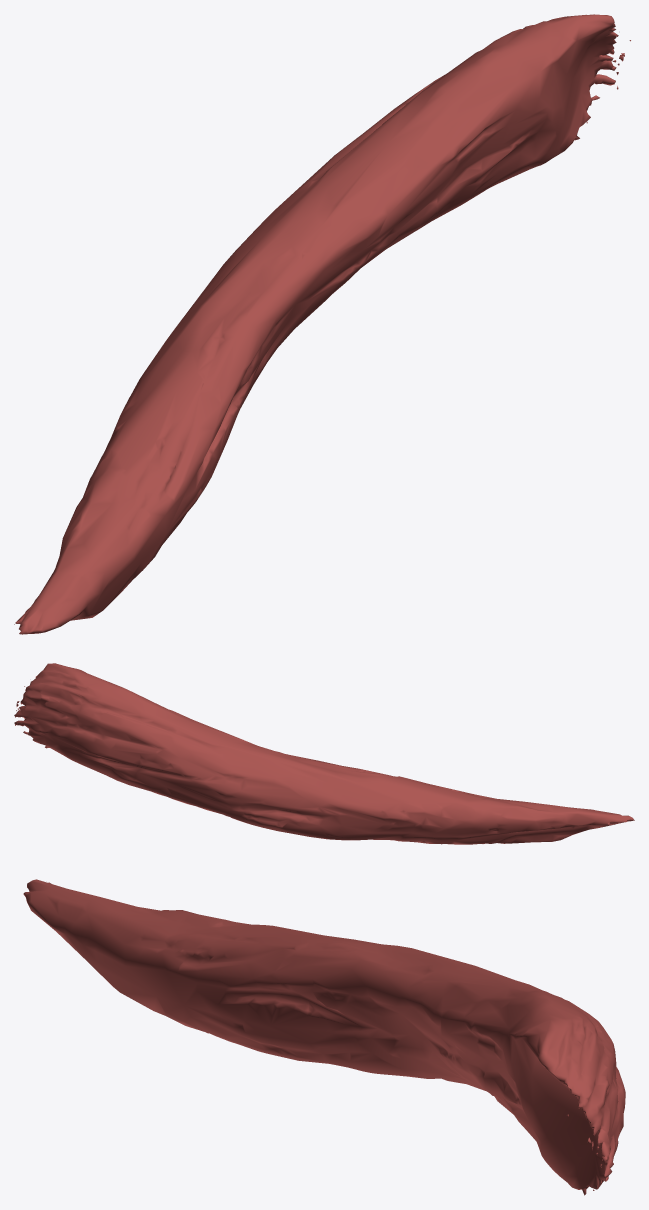
Rendered from FMA22334.glb.
3 renders of one model, top to bottom at view 1: azimuth 30°, elevation 25°; view 2: azimuth 150°, elevation 25°; view 3: azimuth 270°, elevation 25°, orthographic. The views are drawn at different scales.
Visible parts, largest first — view 1: FMA22334; view 2: FMA22334; view 3: FMA22334.
Boxes of the visible parts, box(x1,y1,x2,y2) form: FMA22334: box(14, 14, 630, 634); FMA22334: box(14, 663, 634, 844); FMA22334: box(23, 879, 625, 1195).
Bounding box in the file's own units: 0.0812 × 0.0266 × 0.0443.
